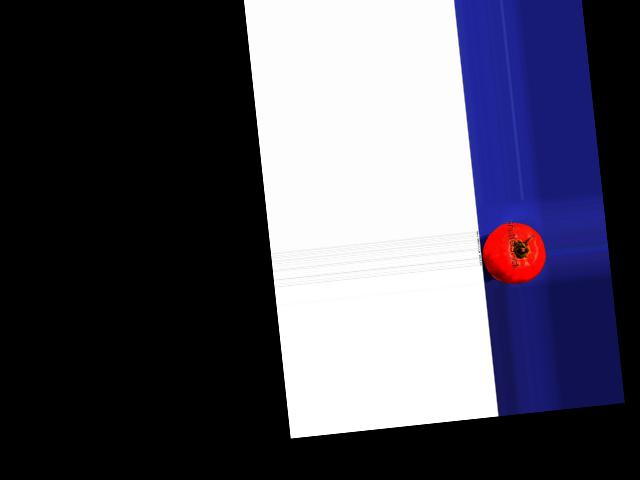tomato: (480, 219, 548, 287)
